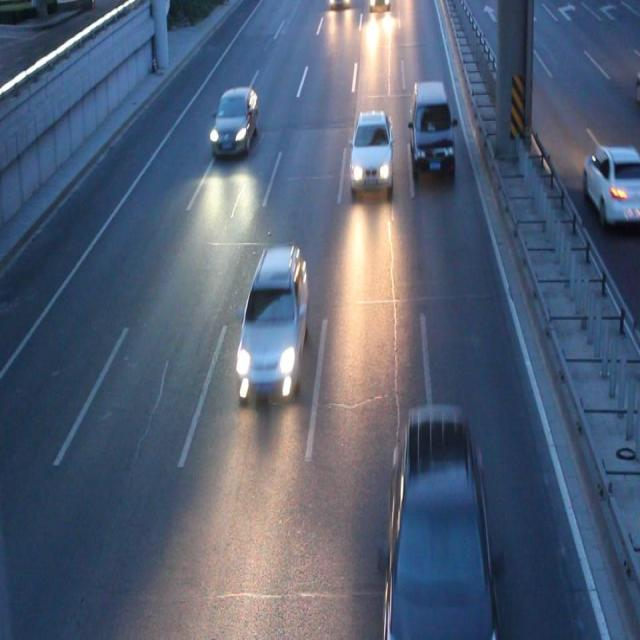car: (386, 411, 491, 640), (239, 245, 307, 389), (582, 146, 640, 223), (349, 112, 393, 187), (212, 87, 258, 150)
truck: (409, 82, 453, 166)
